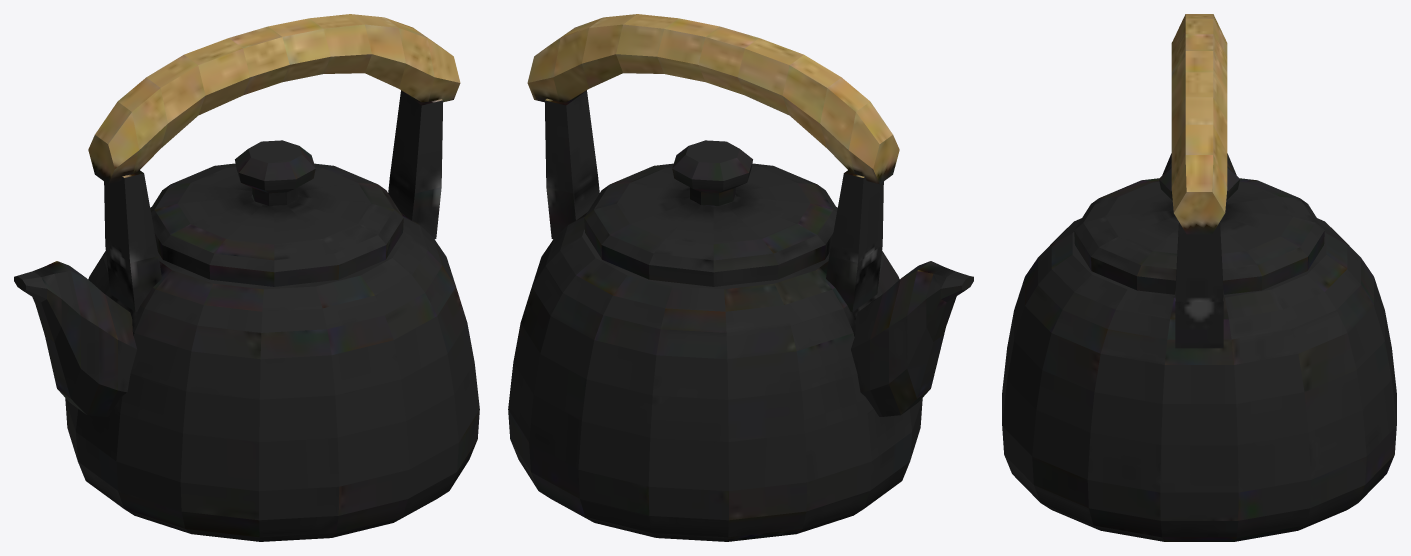
File: kettle.glb
The picture shows the model from 3 angles, left to right: view 1: azimuth 30°, elevation 25°; view 2: azimuth 150°, elevation 25°; view 3: azimuth 270°, elevation 25°; orthographic projection. The views are drawn at different scales.
Visible parts, largest first — view 1: Iron Kettle (light); view 2: Iron Kettle (light); view 3: Iron Kettle (light).
Boxes of the visible parts, box(x1,y1,x2,y2) form: Iron Kettle (light): box(14, 14, 479, 541); Iron Kettle (light): box(508, 14, 973, 541); Iron Kettle (light): box(1002, 14, 1396, 541).
Bounding box in the file's own units: 0.2395 × 0.2331 × 0.1971.
Materials: 1 (1 with a texture image).
